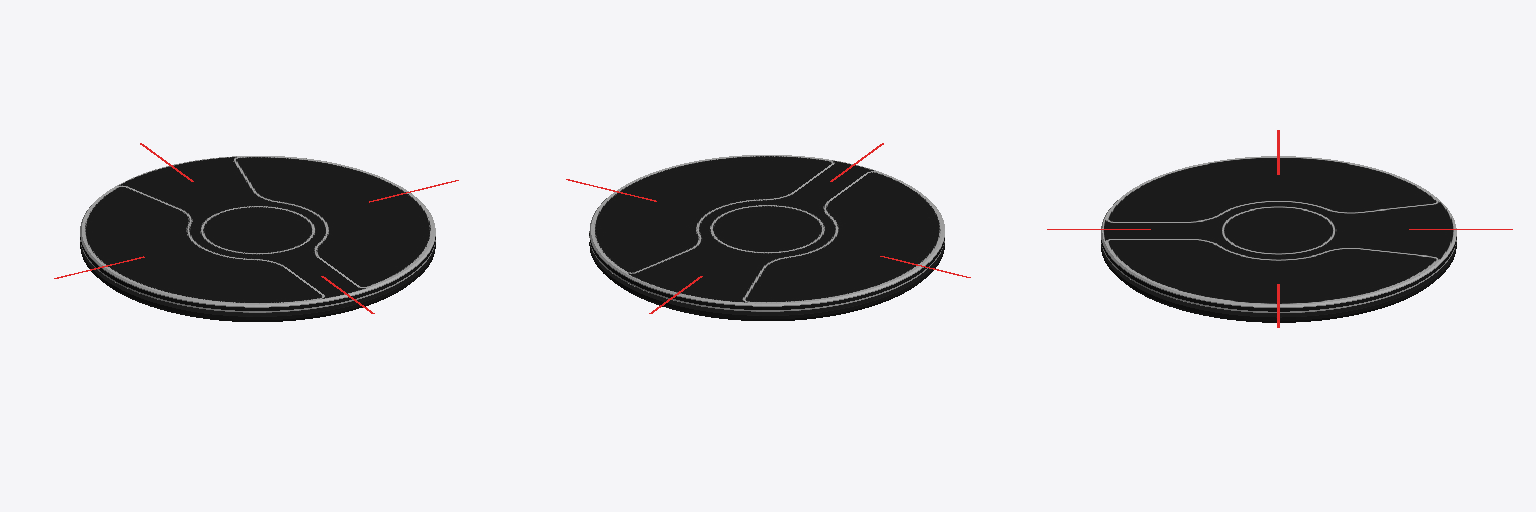
3 views of the same model, side by side, from view 1: azimuth 30°, elevation 25°; view 2: azimuth 150°, elevation 25°; view 3: azimuth 270°, elevation 25° (orthographic).
Size of the model in its own units: 44.71 by 5.67 by 44.64.
2 materials, 1 textured.